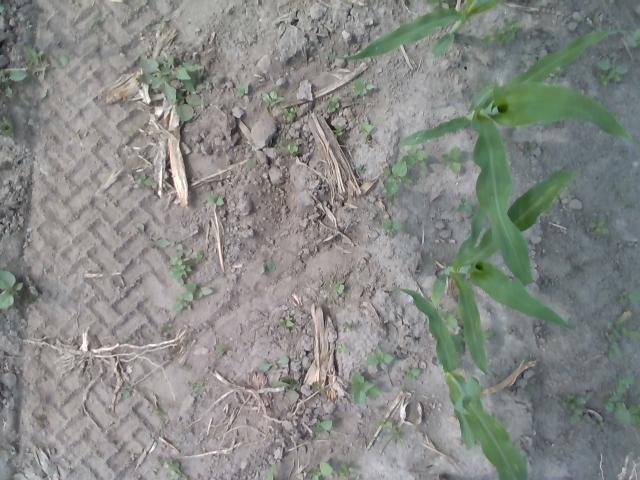Maize: (396, 28, 631, 287), (428, 168, 576, 378), (386, 281, 528, 480), (324, 0, 499, 64)
Weeds: (136, 53, 208, 122), (599, 375, 640, 431), (0, 266, 42, 310), (605, 310, 640, 360), (22, 45, 68, 81), (131, 222, 183, 250), (438, 304, 466, 354), (172, 283, 212, 312), (481, 18, 521, 47), (382, 160, 412, 198), (347, 372, 382, 404), (594, 57, 628, 86), (168, 248, 194, 284), (0, 68, 27, 102), (399, 144, 428, 172), (560, 391, 584, 424), (441, 146, 467, 174), (261, 90, 285, 116), (365, 347, 393, 369), (304, 461, 336, 480), (162, 458, 189, 480), (258, 356, 290, 372), (129, 170, 157, 188), (268, 374, 298, 390), (453, 197, 478, 215), (381, 218, 402, 238), (336, 462, 359, 480), (352, 78, 375, 96), (588, 220, 610, 235), (202, 192, 225, 206), (0, 114, 14, 136), (619, 290, 640, 304), (403, 365, 420, 382), (280, 106, 298, 122), (280, 140, 300, 154), (392, 426, 406, 445), (424, 0, 450, 10), (627, 28, 640, 48), (260, 464, 276, 480), (314, 420, 332, 434), (278, 314, 294, 328), (326, 96, 340, 112), (361, 121, 374, 138), (374, 418, 392, 430), (259, 261, 275, 274), (546, 65, 560, 77), (161, 322, 173, 334), (336, 342, 348, 354), (236, 84, 248, 96), (331, 124, 343, 136), (214, 343, 227, 354), (342, 323, 356, 333), (192, 382, 204, 393), (332, 284, 345, 294), (154, 406, 166, 416), (484, 328, 494, 340), (195, 250, 204, 262), (121, 389, 131, 398), (244, 160, 254, 169), (249, 141, 257, 150), (90, 16, 98, 24), (359, 166, 366, 175), (528, 142, 536, 148), (124, 335, 132, 340), (597, 421, 605, 426), (607, 0, 616, 4)
